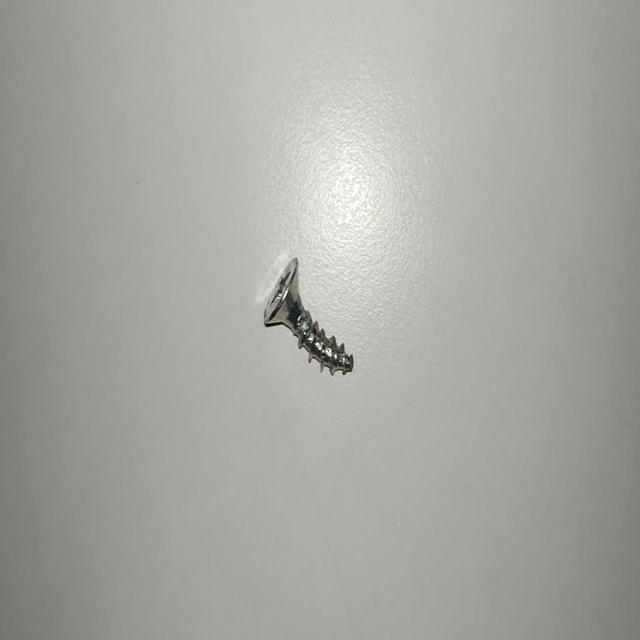Screw: (264, 257, 354, 375)
